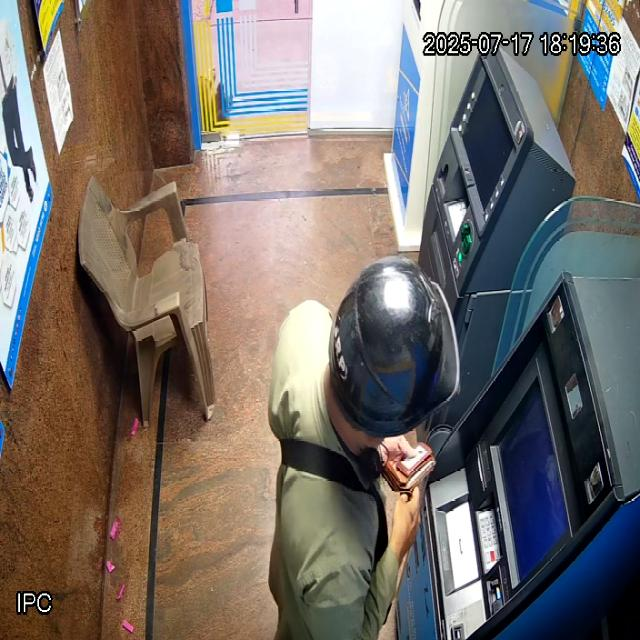helmet: (323, 255, 460, 456)
